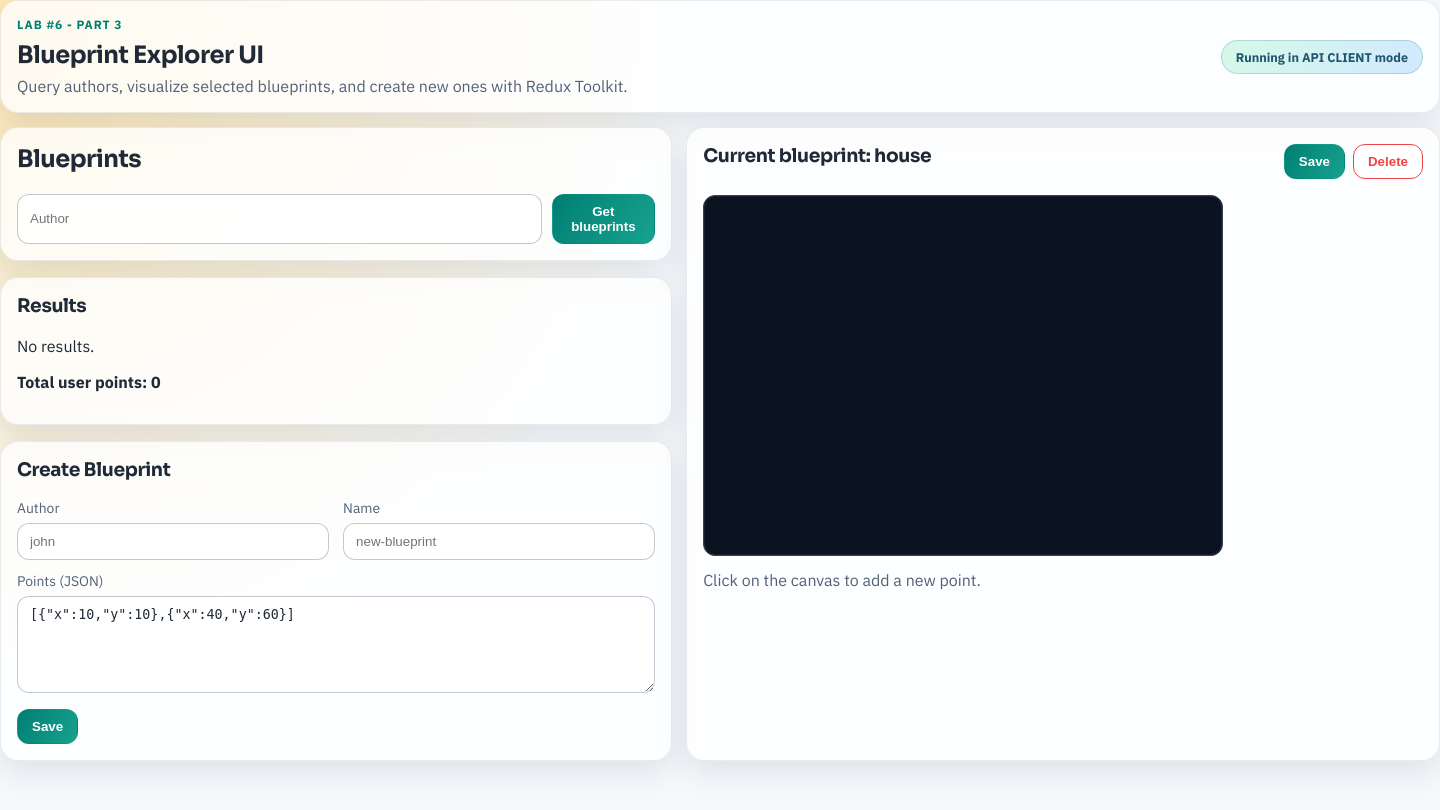
it: BlueprintsPage › persists new points when clicking Save
Click the button "Save" in the row of "house" at (1314, 162), box [1284, 144, 1345, 179]
(page scrolled)
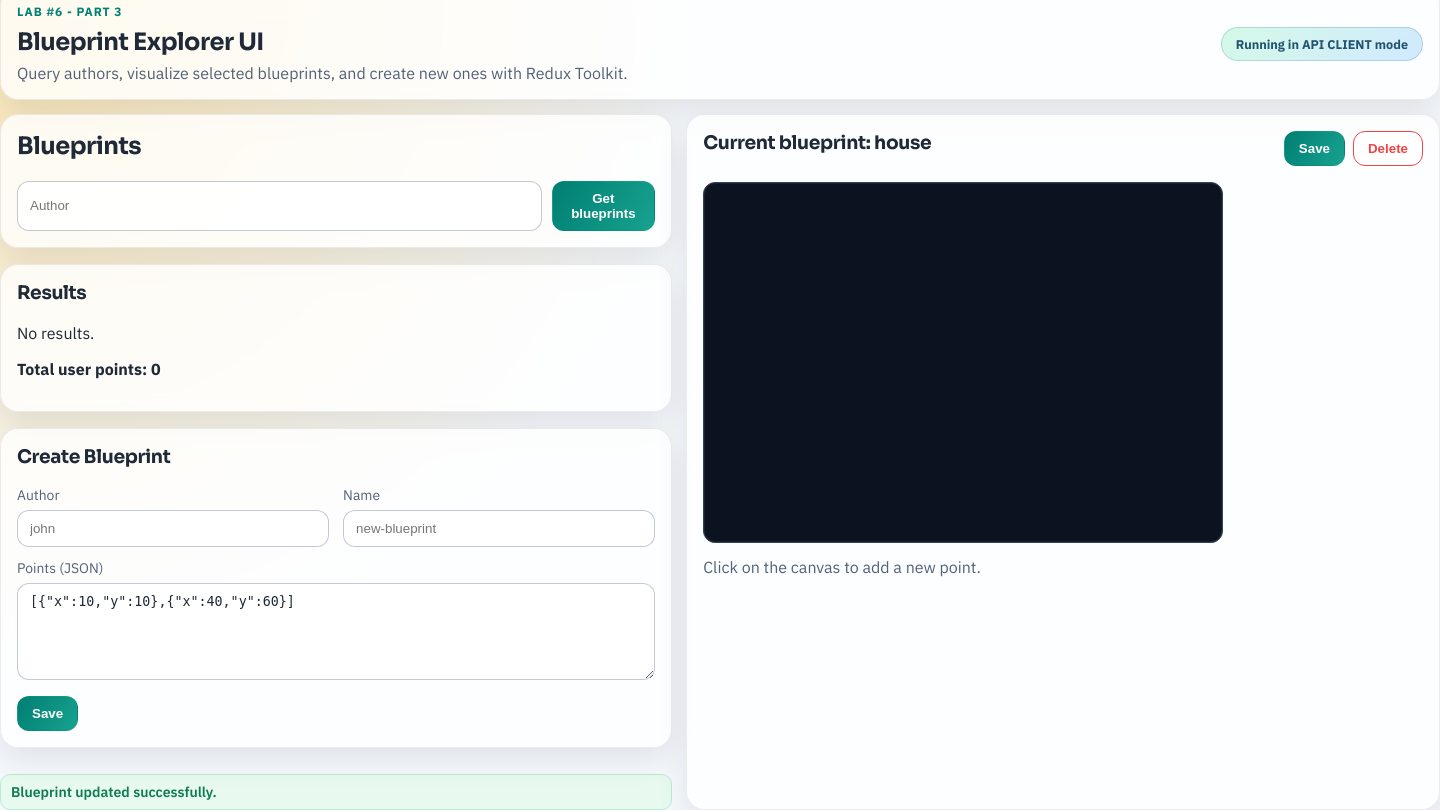
Check: the text "Blueprint updated successfully." is shown, box [0, 774, 672, 809]
